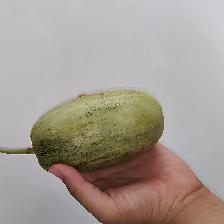gua: (33, 104, 162, 152)
